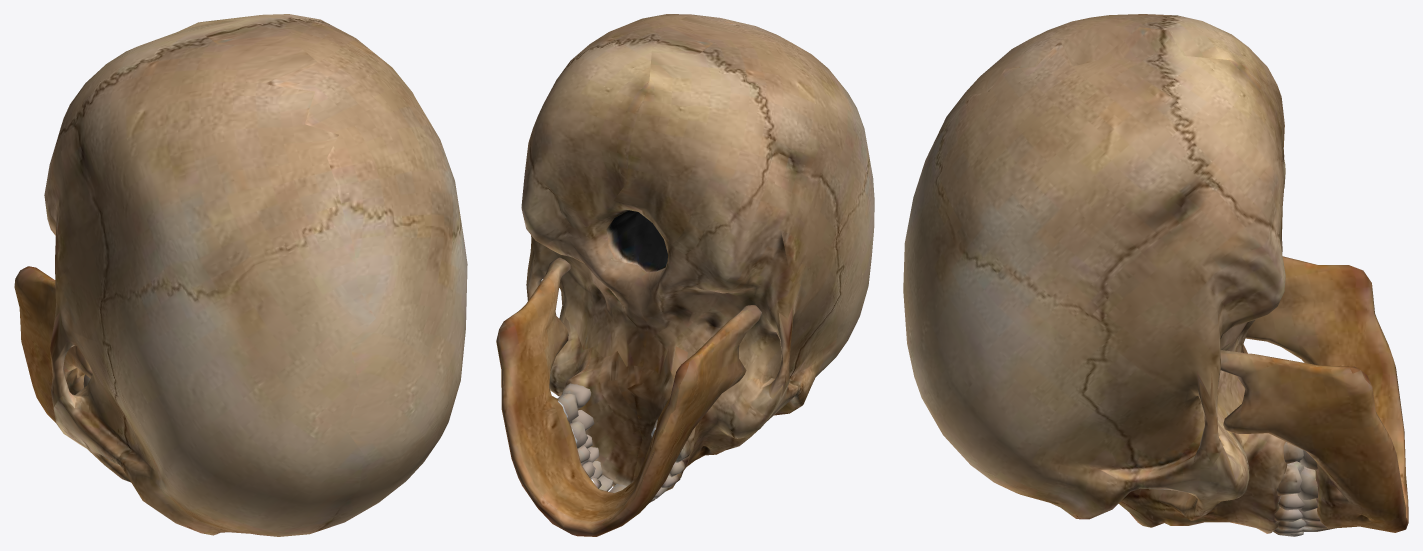
File: skull.obj
The picture shows the model from 3 angles, left to right: view 1: azimuth 30°, elevation 25°; view 2: azimuth 150°, elevation 25°; view 3: azimuth 270°, elevation 25°; orthographic projection. The views are drawn at different scales.
Parts seen in each view (by area): view 1: skull; view 2: skull; view 3: skull.
Part boxes in pixels (x1=…): skull: x1=14, y1=14, x2=467, y2=536; skull: x1=496, y1=14, x2=874, y2=536; skull: x1=903, y1=14, x2=1408, y2=536.
Size of the model in its own units: 19.87 by 29.45 by 27.55.
